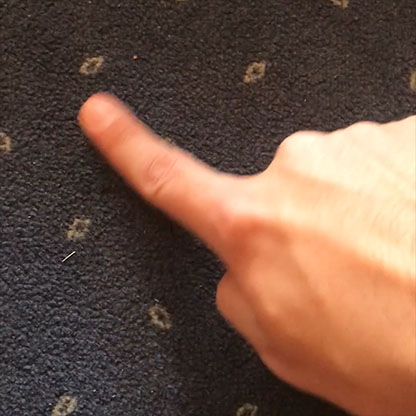fingertip: (71, 84, 130, 139)
